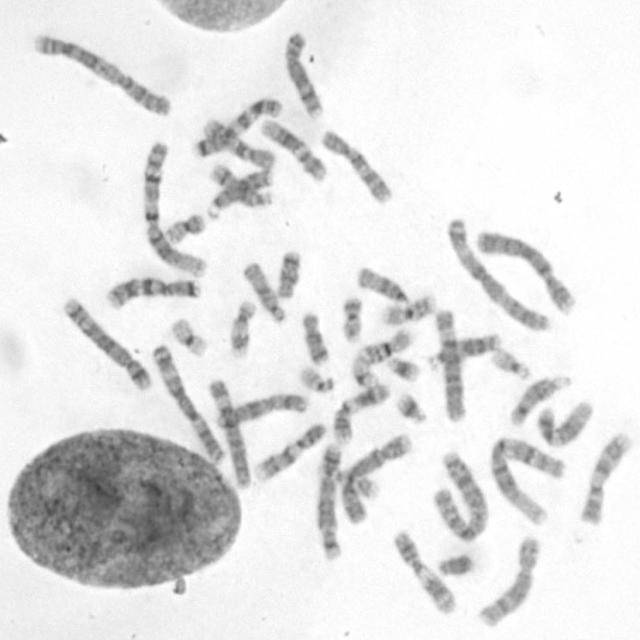A1: (140, 139, 208, 281), (488, 434, 567, 528)
A2: (31, 30, 172, 119), (428, 449, 488, 544)
A3: (445, 217, 552, 334), (150, 344, 227, 465)
B4: (476, 229, 578, 315), (339, 431, 413, 526)
B5: (60, 295, 155, 392), (313, 442, 343, 566)
C10: (319, 127, 394, 205), (203, 117, 277, 170)
C11: (392, 528, 464, 616), (331, 382, 391, 447)
C12: (260, 116, 328, 182), (536, 399, 596, 448)
C6: (208, 380, 252, 492), (432, 308, 468, 426)
C7: (192, 96, 286, 159), (103, 275, 205, 310)
C8: (474, 533, 540, 632), (283, 30, 325, 120)
C9: (580, 432, 634, 528), (252, 420, 327, 484)
D13: (205, 168, 277, 220), (427, 331, 502, 372)
D14: (508, 376, 574, 429), (208, 162, 276, 208)
D15: (241, 262, 289, 326), (355, 264, 409, 305)
E16: (357, 326, 414, 366), (378, 293, 438, 326)
E17: (316, 462, 382, 502), (226, 300, 258, 360)
E18: (300, 310, 331, 366), (275, 247, 304, 300)
F19: (169, 315, 212, 358), (349, 353, 381, 389)
F20: (165, 211, 205, 246), (339, 293, 364, 343)
G21: (394, 389, 429, 424), (385, 354, 420, 384)
G22: (491, 346, 532, 381), (296, 364, 336, 394)
X: (215, 392, 308, 431)
Y: (436, 552, 474, 578)
